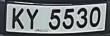0: (88, 5, 103, 30)
3: (76, 5, 89, 32)
5: (61, 6, 77, 32), (48, 6, 63, 32)
K: (11, 7, 26, 32)
Y: (26, 7, 41, 32)
